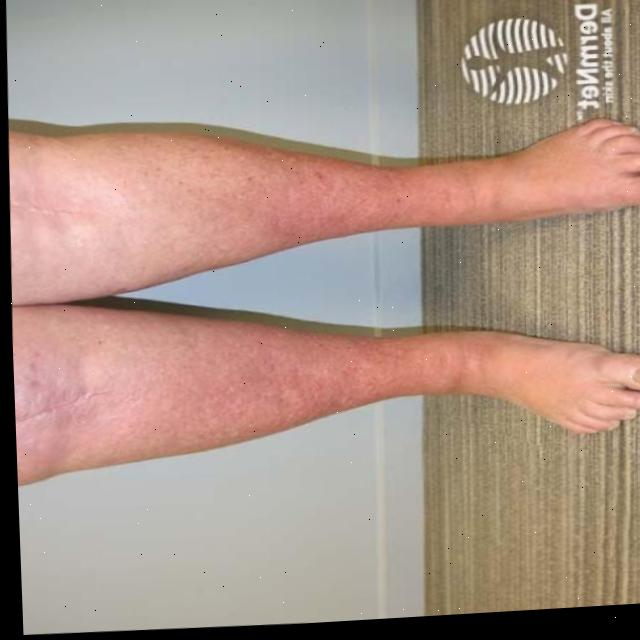Eczema: (126, 119, 448, 251), (117, 292, 422, 429)
